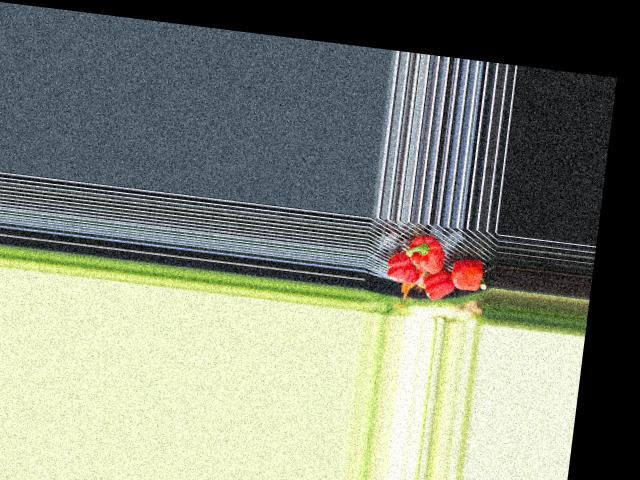bell_pepper: (384, 251, 424, 286)
